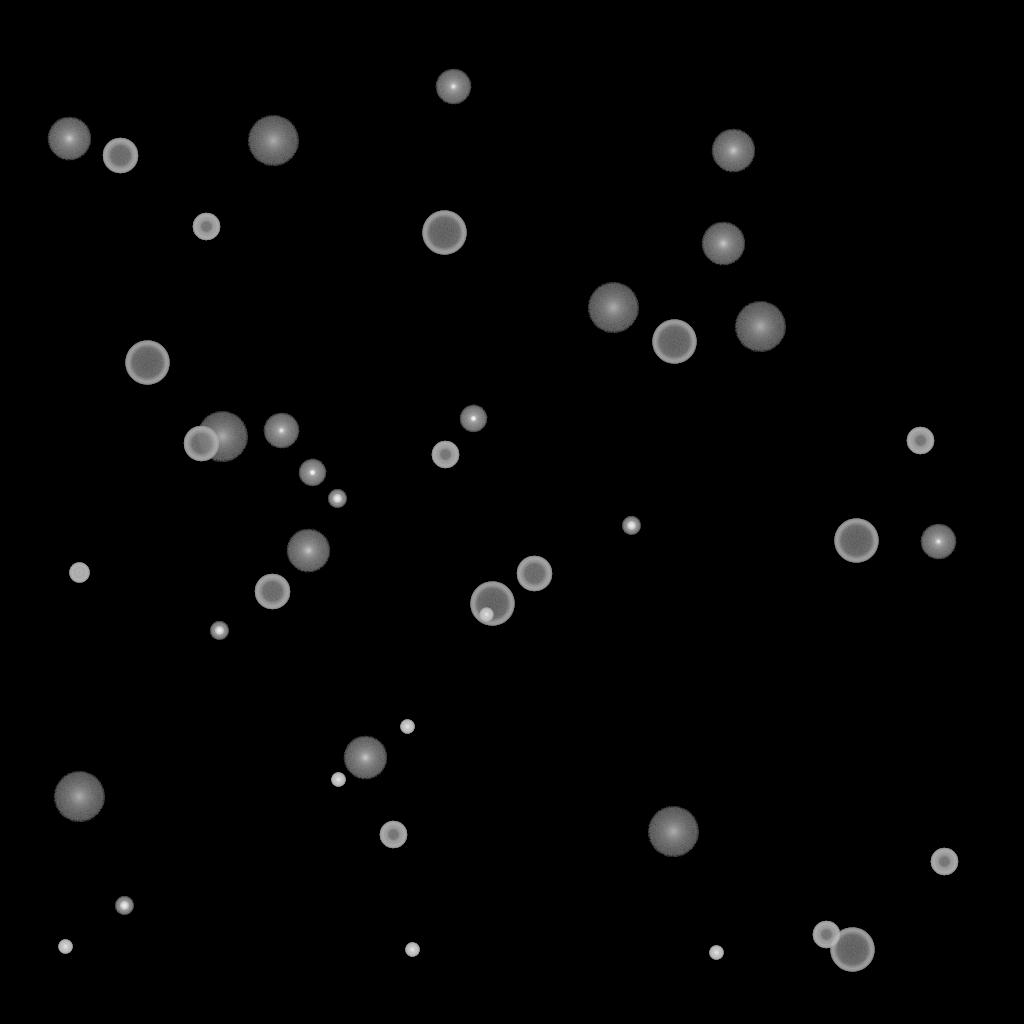depth:-10: (298, 459, 326, 487), (459, 405, 487, 433)
depth:-20: (622, 517, 640, 535), (115, 897, 133, 915), (328, 490, 346, 508), (210, 622, 228, 640)
depth:-30: (709, 946, 723, 960), (400, 720, 414, 734), (58, 940, 72, 954), (331, 773, 345, 787), (405, 943, 419, 957), (479, 608, 493, 622)
depth:-40: (69, 563, 89, 583)
depth:-50: (930, 848, 958, 876), (906, 427, 934, 455), (431, 441, 459, 469), (812, 921, 840, 949), (379, 821, 407, 849), (192, 213, 220, 241)
depth:-60: (102, 138, 138, 174), (183, 426, 219, 462), (254, 574, 290, 610), (516, 556, 552, 592)
depth:-70: (470, 582, 514, 626), (834, 519, 878, 563), (422, 211, 466, 255), (652, 320, 696, 364), (830, 928, 874, 972), (125, 341, 169, 385)
depth:0: (435, 69, 471, 105), (920, 524, 956, 560), (263, 413, 299, 449)
depth:10: (711, 129, 755, 173), (343, 736, 387, 780), (47, 117, 91, 161), (701, 222, 745, 266), (286, 529, 330, 573)
depth:20: (247, 116, 299, 166), (647, 807, 699, 857), (53, 772, 105, 822), (587, 283, 639, 333), (196, 412, 248, 462), (734, 302, 786, 352)
